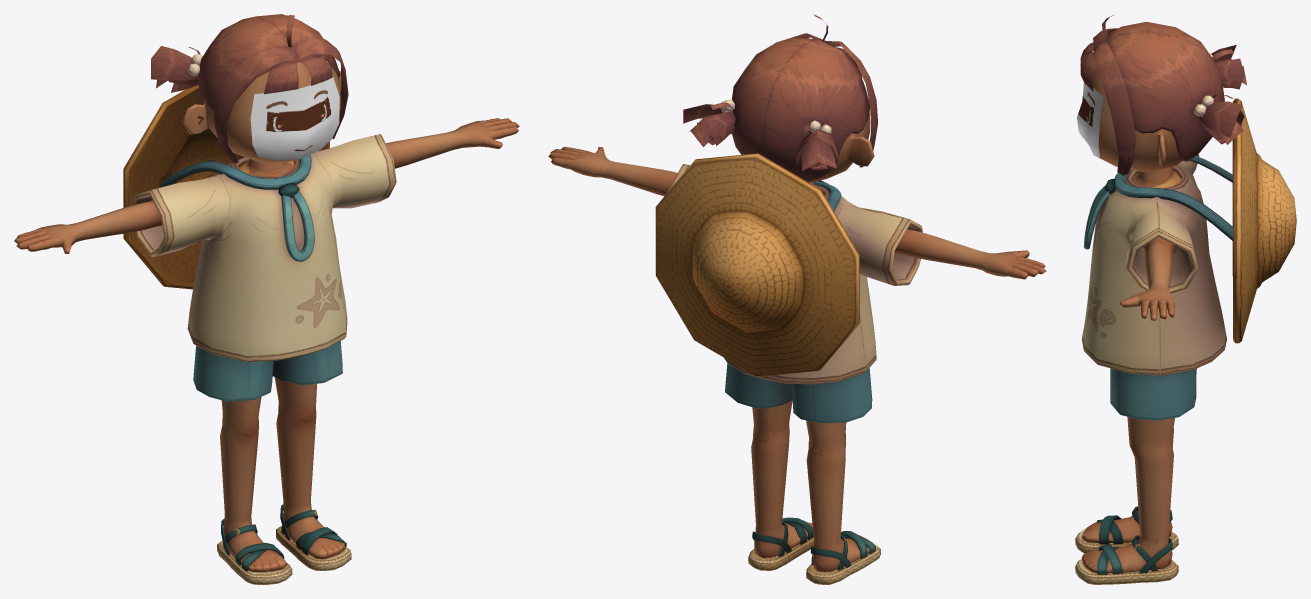
File: PlayerCharacter_FBX.fbx
3 renders of one model, left to right at view 1: azimuth 30°, elevation 25°; view 2: azimuth 150°, elevation 25°; view 3: azimuth 270°, elevation 25°, orthographic.
Visible parts, largest first — view 1: model:Shirt, model:Body, model:Hat, model:Hair, model:Face, model:Shorts, model:Shoes, model:Head; view 2: model:Hat, model:Hair, model:Body, model:Shirt, model:Shorts, model:Shoes, model:Head; view 3: model:Shirt, model:Hair, model:Hat, model:Body, model:Shorts, model:Shoes, model:Head, model:Face.
Part boxes in pixels (x1,y1,x2,y2): model:Shirt: (132,134,396,361); model:Body: (14,118,519,571); model:Hat: (123,85,329,289); model:Hair: (151,14,348,163); model:Face: (250,76,339,160); model:Shorts: (193,341,342,401); model:Shoes: (217,504,351,584); model:Head: (181,60,341,163); model:Hat: (655,153,859,376); model:Hair: (683,14,877,181); model:Body: (548,146,1046,571); model:Shirt: (666,164,922,384); model:Shorts: (725,363,872,422); model:Shoes: (748,517,880,584); model:Head: (731,113,874,182); model:Shirt: (1081,154,1226,375); model:Hair: (1080,15,1246,175); model:Hat: (1083,98,1296,343); model:Body: (1082,166,1180,573); model:Shorts: (1110,368,1196,420); model:Shoes: (1075,506,1178,584); model:Head: (1092,68,1182,172); model:Face: (1077,83,1102,157).
Bounding box in the file's own units: 6.62 × 6.91 × 2.53.
